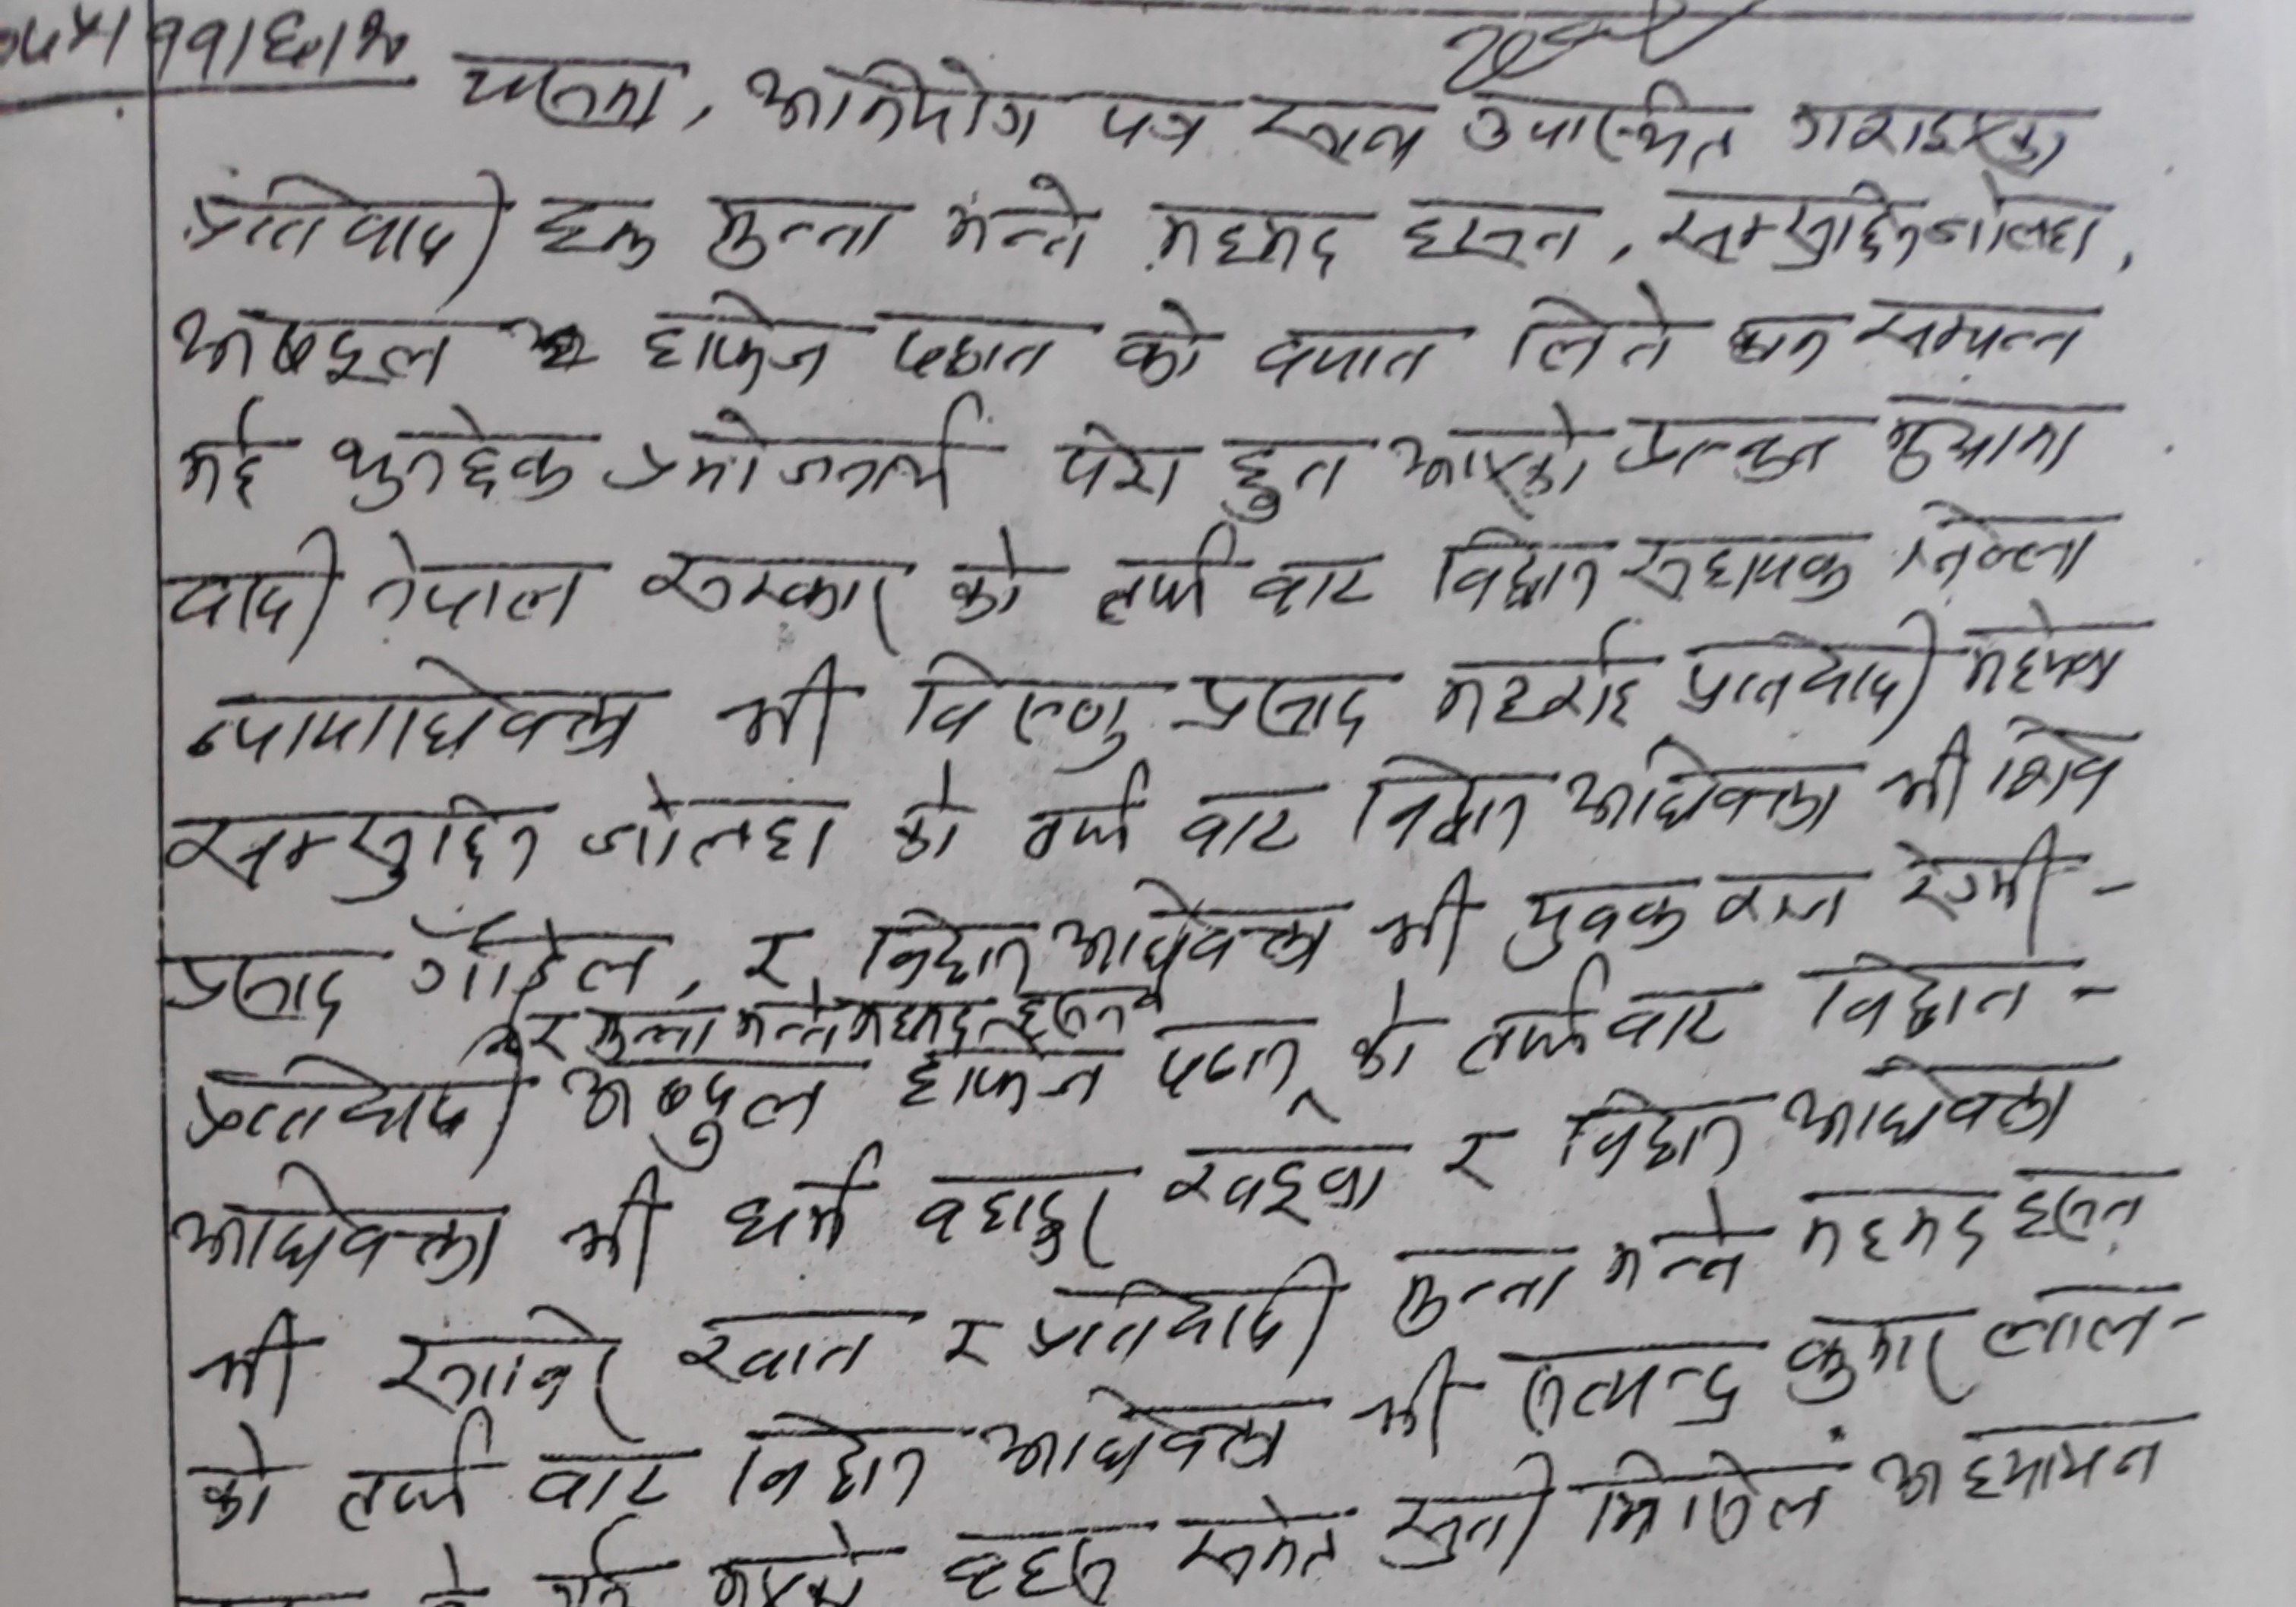text: (181, 642, 642, 778), (171, 1160, 508, 1302), (162, 785, 544, 902), (181, 159, 518, 288), (600, 403, 967, 516), (181, 1031, 539, 1146), (1867, 1401, 2186, 1523), (1017, 1255, 1349, 1371), (967, 1378, 1298, 1490), (1776, 1045, 2094, 1160), (1453, 960, 1750, 1082), (1036, 874, 1345, 989), (1680, 605, 1945, 738), (558, 1050, 846, 1169), (365, 1298, 640, 1422), (164, 288, 459, 403), (1560, 729, 1855, 843), (740, 54, 1040, 162), (1497, 1330, 1771, 1445), (389, 893, 668, 1005), (633, 539, 918, 647), (319, 403, 583, 518), (1586, 1436, 1830, 1560), (907, 637, 1134, 769), (1788, 91, 2102, 183), (1462, 72, 1748, 173), (358, 523, 595, 639), (1385, 394, 1605, 518), (1657, 176, 1926, 276), (159, 522, 347, 663), (577, 778, 853, 874), (1427, 619, 1643, 742), (640, 283, 846, 407), (724, 1401, 949, 1509), (912, 1162, 1127, 1275), (1619, 522, 1867, 618), (1377, 1453, 1565, 1577), (440, 44, 686, 134), (1802, 944, 2043, 1036), (1886, 825, 2073, 944), (1869, 379, 2088, 476), (1160, 1134, 1404, 1221), (1619, 403, 1849, 496), (1555, 1082, 1760, 1185), (1349, 750, 1546, 857), (1900, 490, 2115, 586), (696, 176, 902, 276), (722, 1138, 885, 1263), (1509, 270, 1689, 384), (1593, 1188, 1757, 1312), (1150, 190, 1357, 288), (1788, 1293, 1970, 1405), (1418, 513, 1610, 618), (893, 1033, 1124, 1120), (335, 1408, 494, 1534), (1797, 1178, 1991, 1281), (1853, 291, 2101, 372), (1174, 654, 1389, 747), (1382, 1235, 1577, 1337), (677, 1303, 893, 1394), (1246, 75, 1436, 176), (935, 162, 1092, 283), (1951, 595, 2134, 698), (1397, 183, 1602, 274), (1923, 168, 2111, 265), (857, 902, 1045, 1000), (1977, 1272, 2172, 1366), (1996, 1160, 2190, 1255), (1978, 701, 2149, 808), (881, 298, 1068, 394), (1169, 1490, 1349, 1588), (1500, 871, 1694, 960), (707, 651, 851, 769), (171, 946, 365, 1033), (539, 1166, 670, 1293), (935, 1525, 1138, 1607), (1251, 316, 1469, 389), (527, 1433, 691, 1525), (530, 178, 668, 288), (1146, 1009, 1307, 1101), (183, 1302, 311, 1415), (1096, 523, 1225, 632), (1228, 427, 1366, 527), (1054, 412, 1188, 513), (1352, 1340, 1469, 1453), (1858, 721, 1978, 831), (1246, 541, 1389, 633), (187, 1419, 288, 1546), (1078, 77, 1220, 168), (1375, 867, 1486, 979), (1165, 785, 1310, 871), (173, 393, 274, 513), (930, 527, 1042, 628), (1022, 778, 1146, 865), (1708, 871, 1867, 939), (1110, 291, 1221, 387), (881, 762, 975, 874), (1340, 972, 1431, 1087), (1725, 302, 1841, 387), (1436, 1120, 1518, 1206), (925, 1298, 998, 1382), (741, 918, 797, 989)
